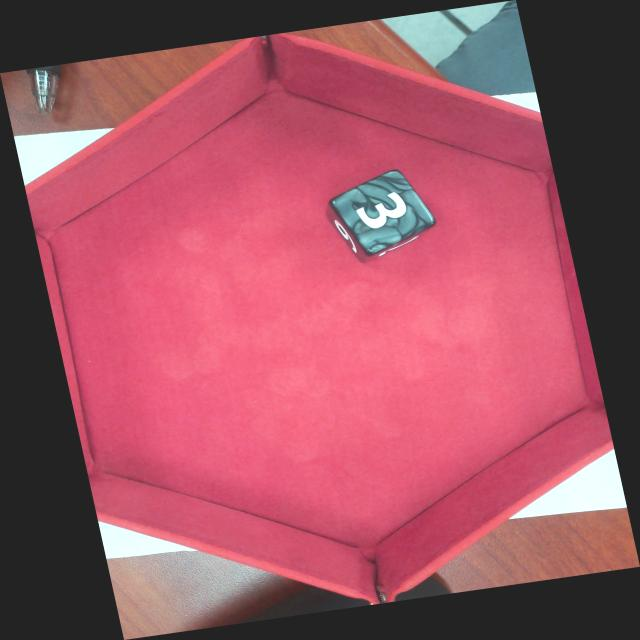dice: (329, 168, 438, 256)
